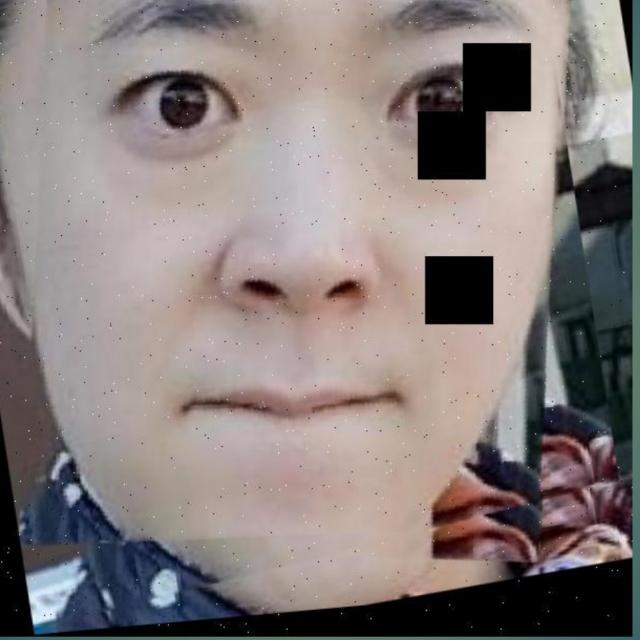Disgust: (29, 11, 640, 634)
